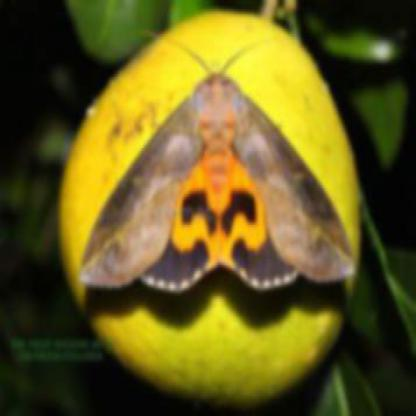fruit sucking moth: (78, 75, 356, 292)
